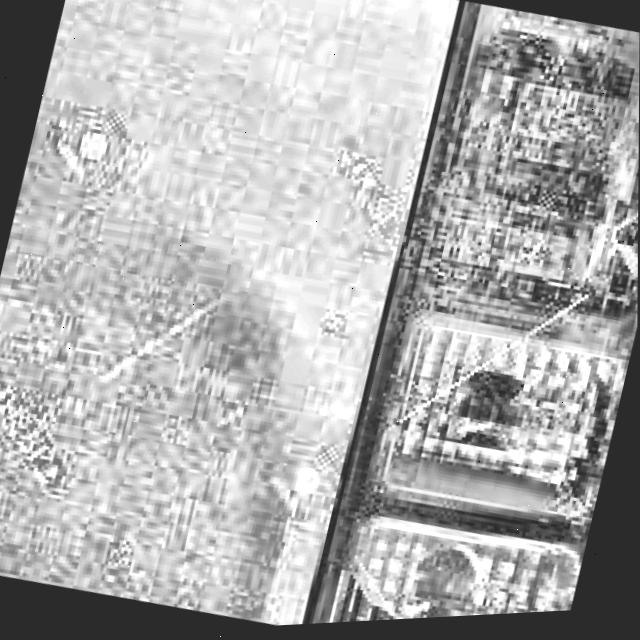tail_lamp: (319, 0, 640, 623)
